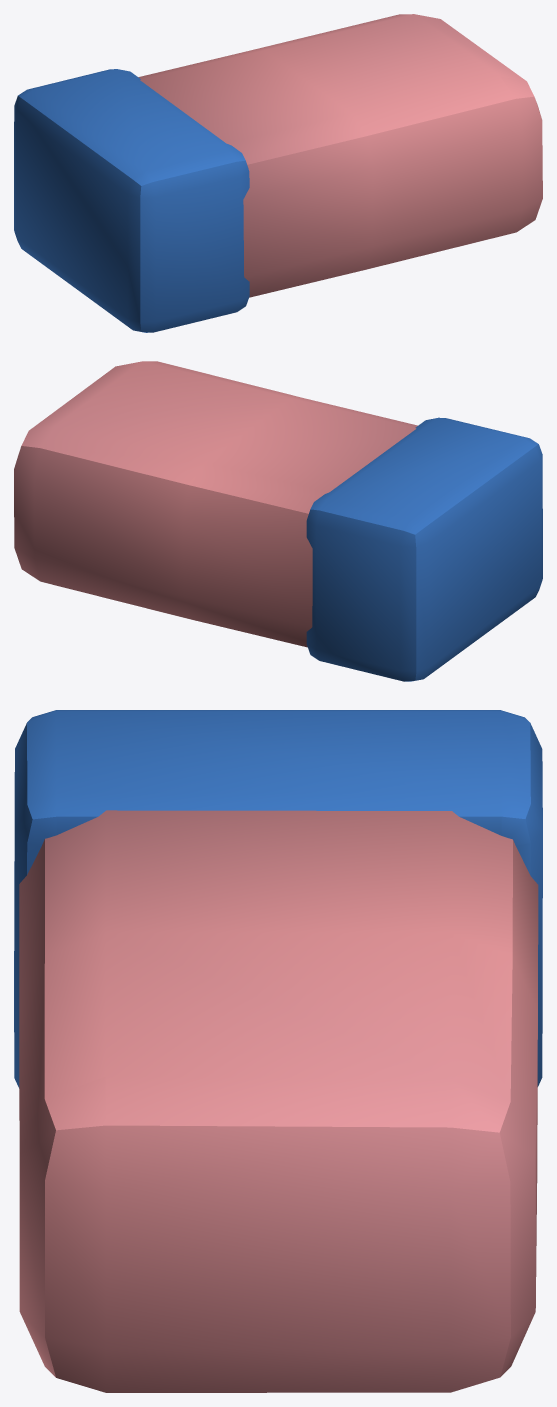
File: den_eraser.glb
3 views of the same model, one above another, from view 1: azimuth 30°, elevation 25°; view 2: azimuth 150°, elevation 25°; view 3: azimuth 270°, elevation 25° (orthographic). The views are drawn at different scales.
Visible parts, largest first — view 1: den_eraser; view 2: den_eraser; view 3: den_eraser.
Part boxes in pixels (x1,y1,x2,y2): den_eraser: (14, 14, 542, 332); den_eraser: (14, 361, 542, 681); den_eraser: (14, 710, 542, 1392).
Size of the model in its own units: 5.66 by 2.07 by 3.07.
